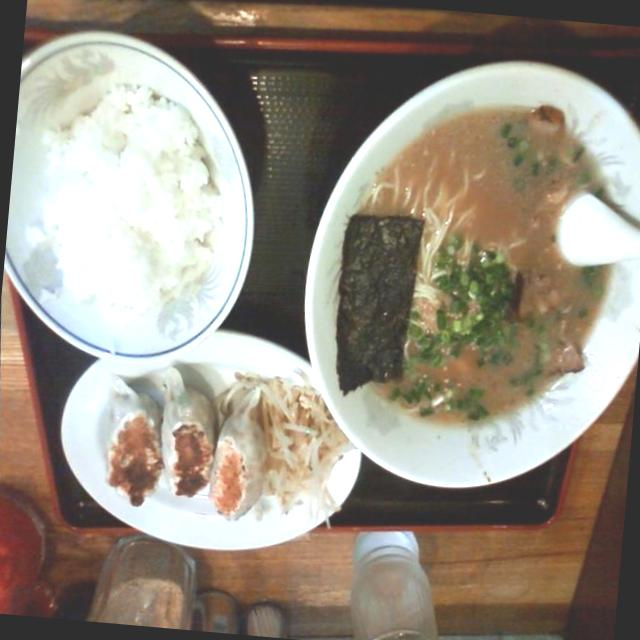Rice: (21, 60, 242, 348)
